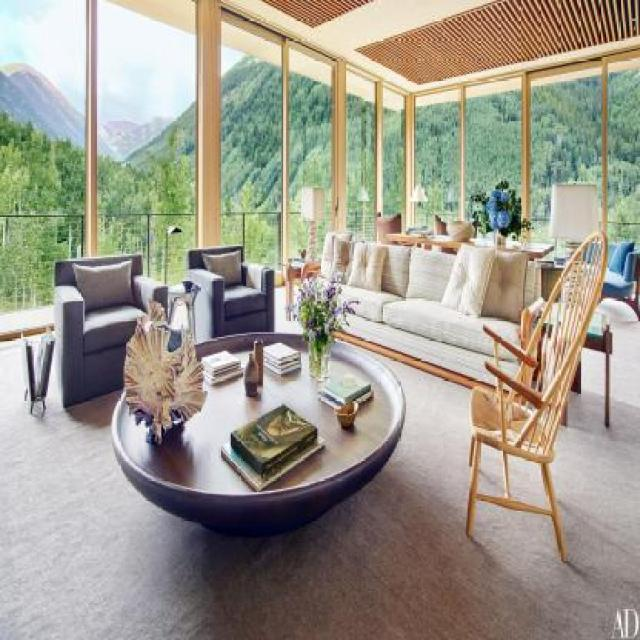Floor: (0, 298, 640, 640), (507, 454, 550, 511), (476, 442, 506, 496), (275, 286, 303, 334), (24, 332, 46, 357), (171, 305, 188, 330), (34, 348, 38, 371)
